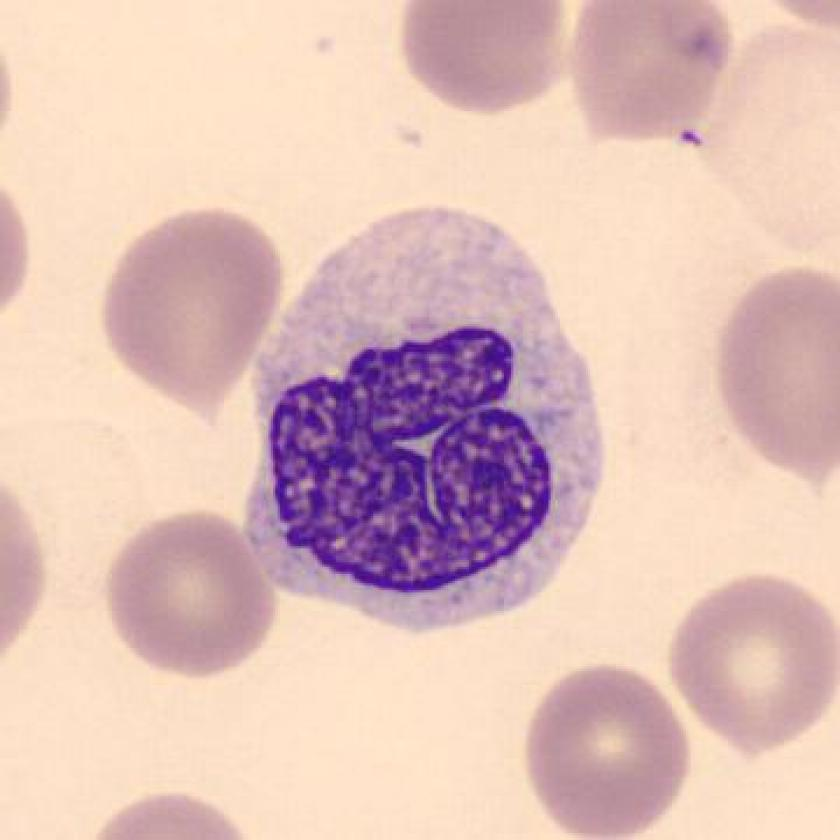monocyte: (220, 191, 631, 656)
